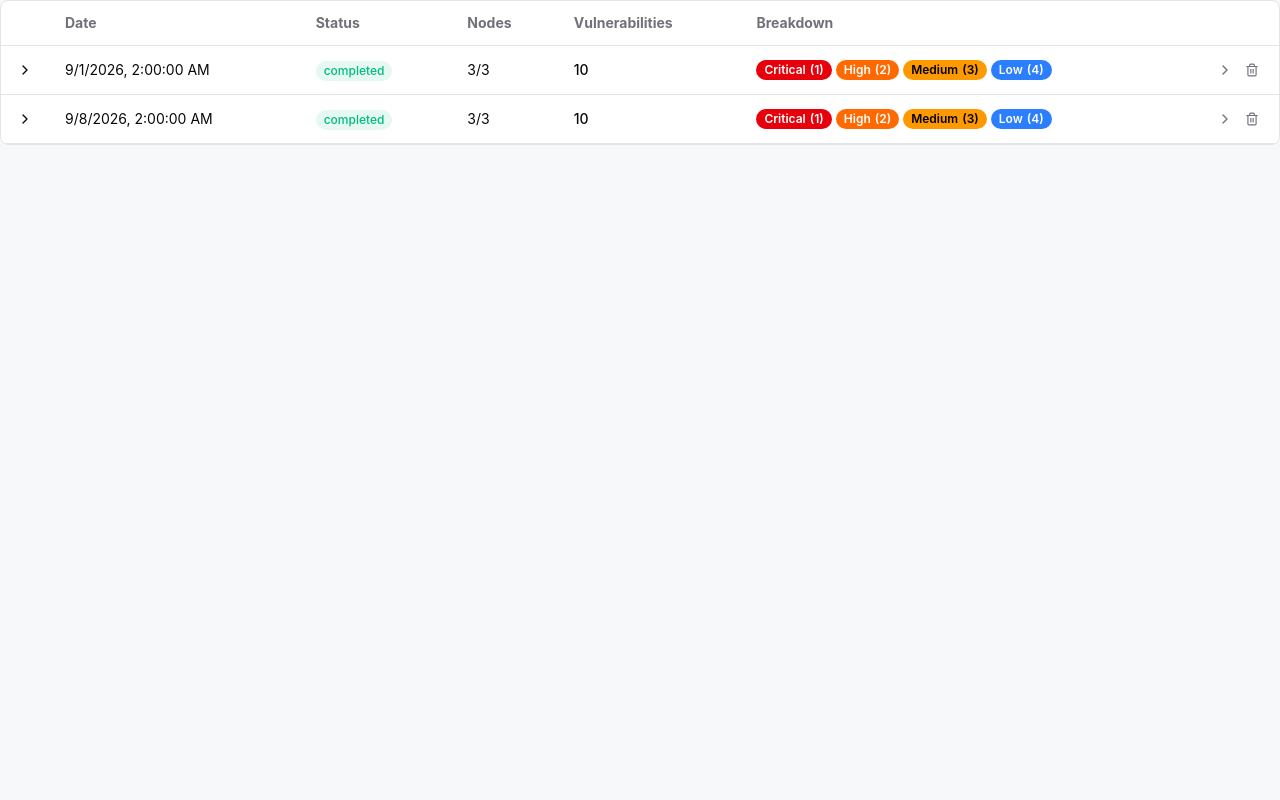
Scenario: ScanHistoryTable — delete › Cancel sends nothing
Step 1. Click the button named "Delete scan" in the row of "9/8/2026, 2:00:00 AM" → click(1252, 119), box [1241,107,1263,131]
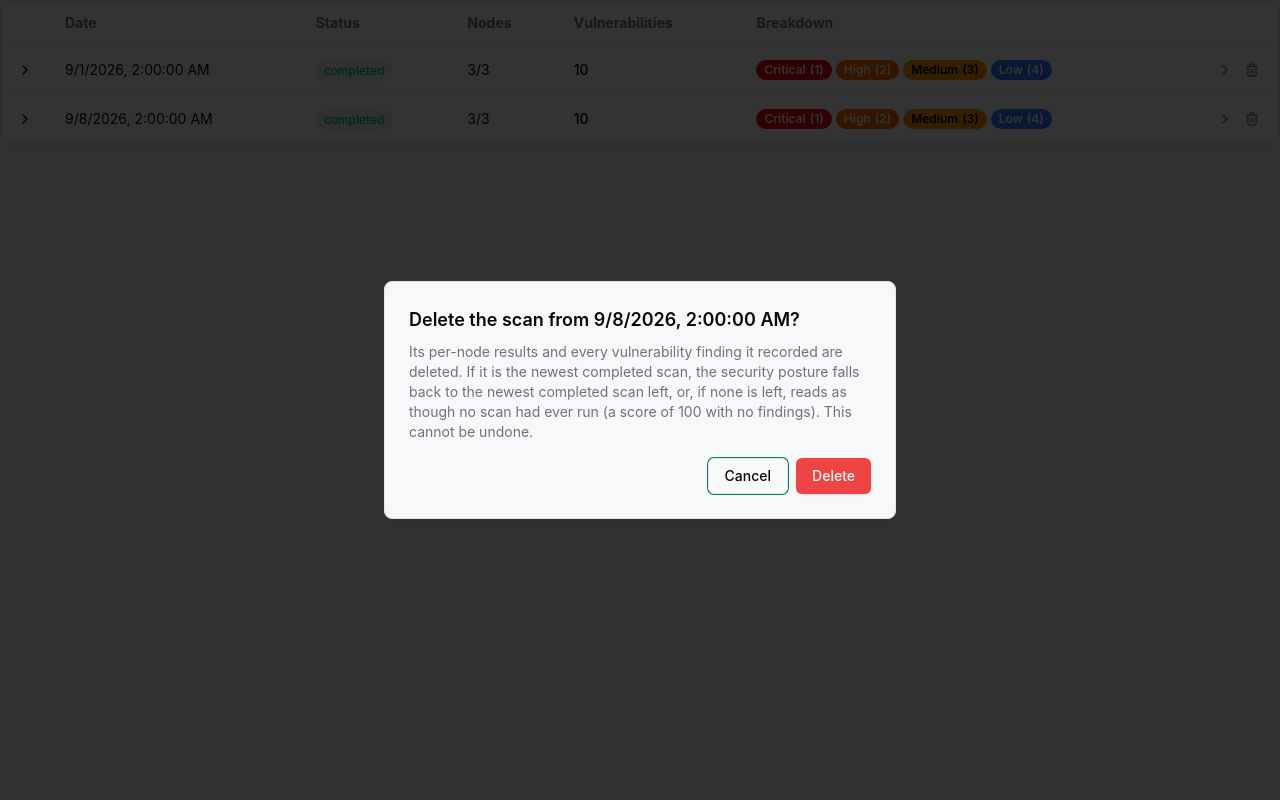
Step 2. Click the button "Cancel" → click(748, 476), box [708,458,788,494]
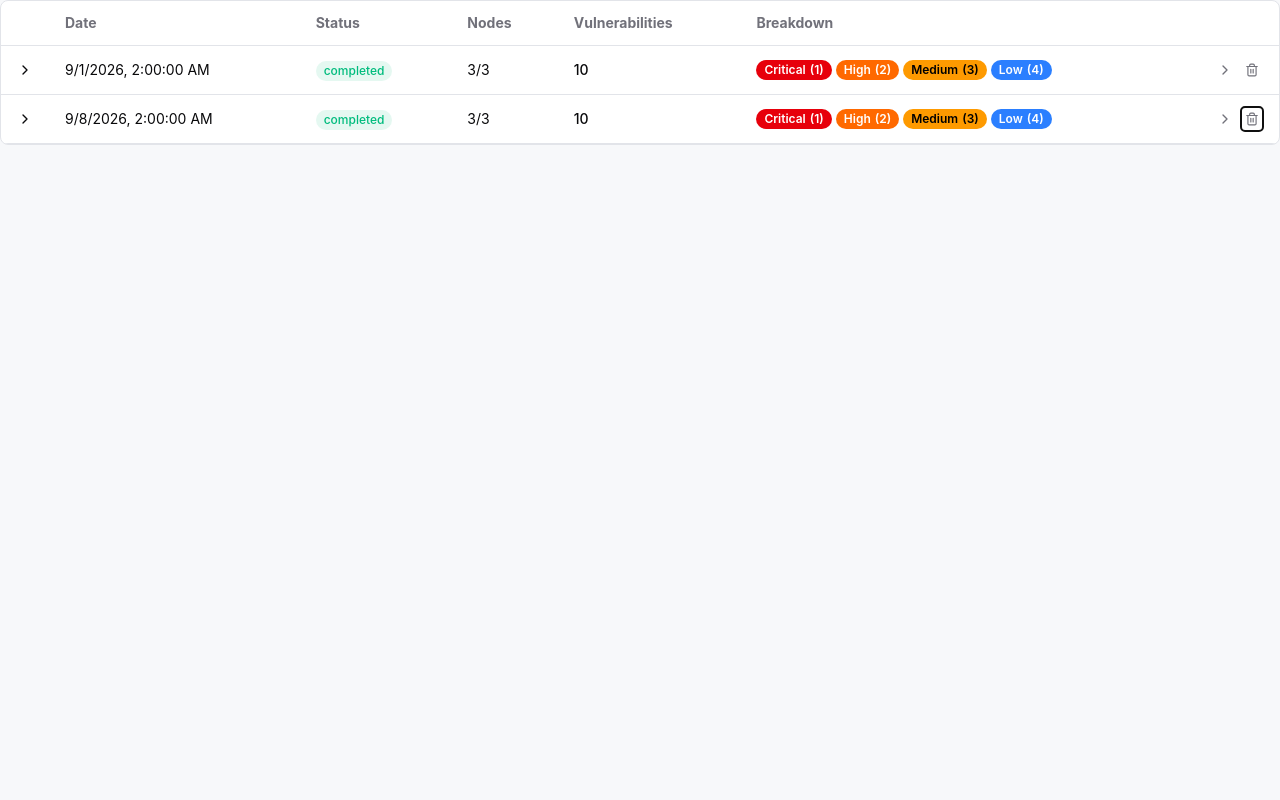
Expected: the dialog is gone
